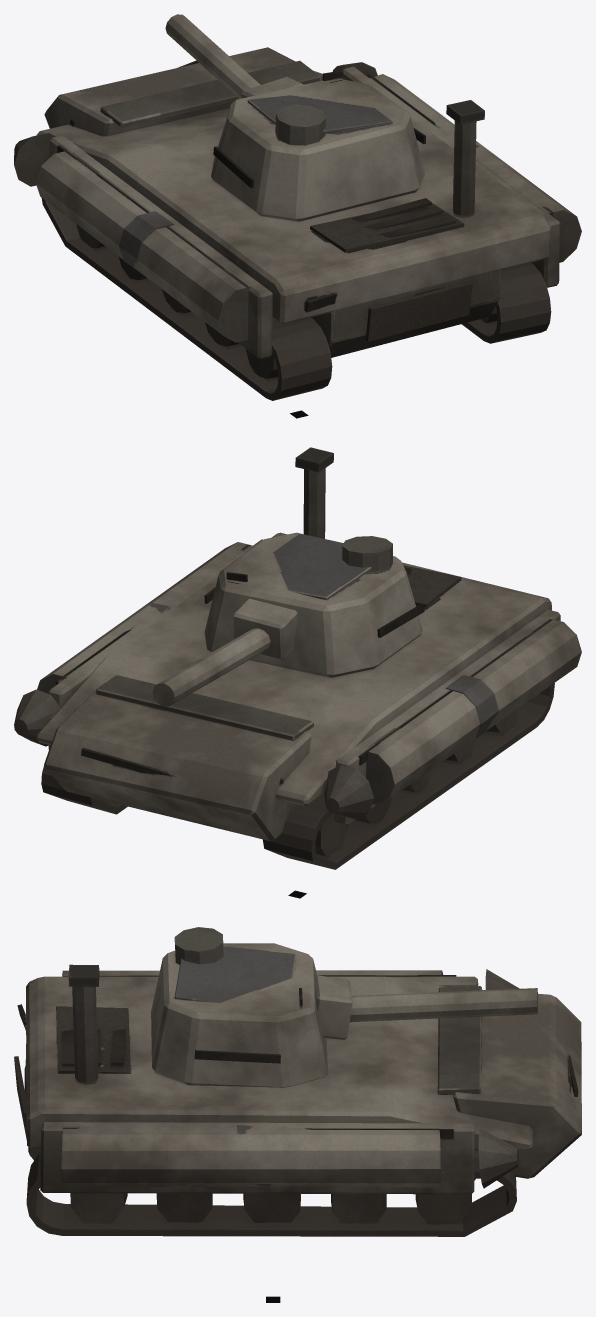
Rendered from ord_wader_wreck.fbx.
3 renders of one model, top to bottom at view 1: azimuth 30°, elevation 25°; view 2: azimuth 150°, elevation 25°; view 3: azimuth 270°, elevation 25°, orthographic. The views are drawn at different scales.
Parts seen in each view (by area): view 1: base_bar, turret_bar, trackL_bar, trackR_bar, barrel_bar; view 2: base_bar, turret_bar, trackL_bar, barrel_bar, trackR_bar; view 3: base_bar, turret_bar, trackR_bar, barrel_bar.
Part boxes in pixels (<box>): base_bar: <box>14,47,581,359</box>; turret_bar: <box>211,70,425,221</box>; trackL_bar: <box>41,198,332,400</box>; trackR_bar: <box>461,263,551,343</box>; barrel_bar: <box>165,14,303,98</box>; base_bar: <box>14,447,581,841</box>; turret_bar: <box>204,532,424,677</box>; trackL_bar: <box>262,683,554,869</box>; barrel_bar: <box>152,598,297,706</box>; trackR_bar: <box>41,766,127,814</box>; base_bar: <box>14,964,581,1194</box>; turret_bar: <box>151,927,327,1087</box>; trackR_bar: <box>26,1153,516,1236</box>; barrel_bar: <box>314,975,537,1039</box>.
Bounding box in the file's own units: 598 × 556 × 781.
Materials: 2 (2 with a texture image).
